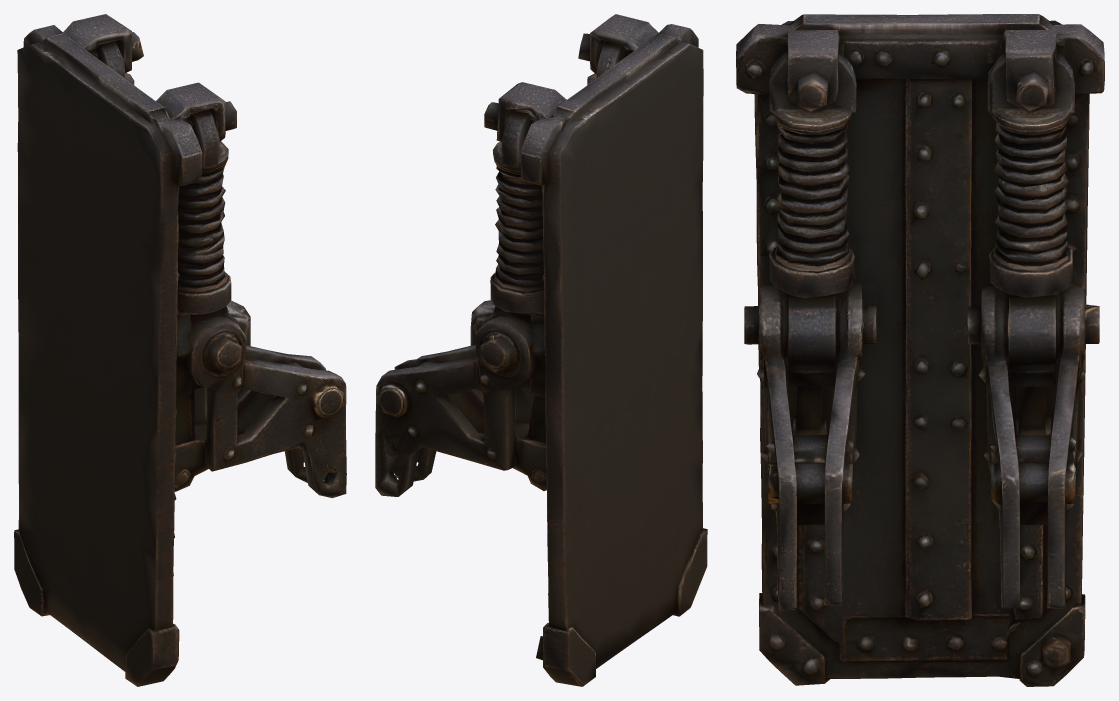
The model's file is raw_clampmount.glb.
3 renders of one model, left to right at view 1: azimuth 30°, elevation 25°; view 2: azimuth 150°, elevation 25°; view 3: azimuth 270°, elevation 25°, orthographic. The views are drawn at different scales.
Visible parts, largest first — view 1: tripo_node_b524f385-98cf-421e-8d37-9ff862756aaa; view 2: tripo_node_b524f385-98cf-421e-8d37-9ff862756aaa; view 3: tripo_node_b524f385-98cf-421e-8d37-9ff862756aaa.
Boxes of the visible parts, left/top/right/bottom form: tripo_node_b524f385-98cf-421e-8d37-9ff862756aaa: left=14, top=14, right=346, bottom=686; tripo_node_b524f385-98cf-421e-8d37-9ff862756aaa: left=375, top=14, right=707, bottom=686; tripo_node_b524f385-98cf-421e-8d37-9ff862756aaa: left=736, top=14, right=1104, bottom=686.
Bounding box in the file's own units: 0.3698 × 1 × 0.4999.
Materials: 1 (1 with a texture image).
